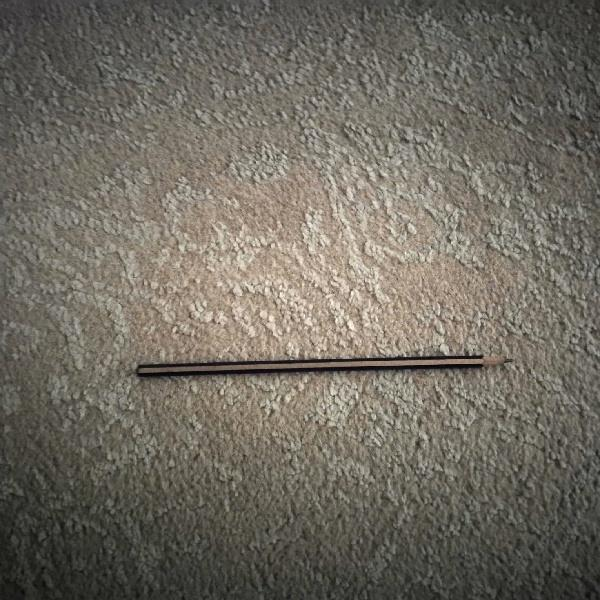pencil: (137, 355, 512, 377)
